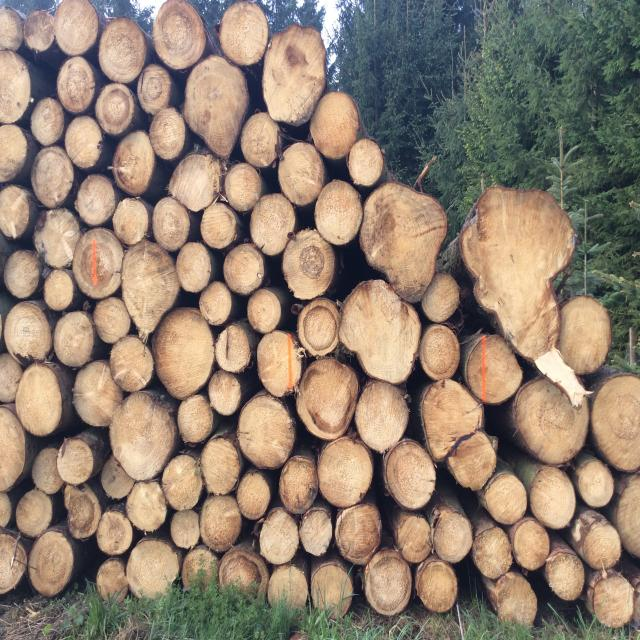wood-log: (461, 188, 576, 364), (358, 181, 448, 292), (338, 281, 420, 384), (515, 379, 589, 465), (185, 56, 246, 160), (110, 391, 178, 480), (264, 25, 325, 123), (120, 242, 179, 339), (151, 310, 214, 400), (419, 380, 483, 461), (295, 356, 357, 438), (588, 374, 638, 472), (234, 394, 294, 468), (462, 333, 523, 403), (555, 297, 609, 376), (354, 378, 408, 451), (319, 440, 375, 510), (281, 230, 335, 301), (72, 229, 124, 300), (382, 441, 434, 511), (16, 362, 64, 435), (153, 2, 203, 72), (311, 91, 362, 158), (72, 363, 123, 428), (528, 464, 578, 528), (99, 19, 149, 83), (315, 181, 364, 246), (362, 550, 411, 614), (258, 330, 304, 398), (128, 539, 180, 599), (219, 1, 267, 65), (276, 145, 324, 208), (1, 304, 51, 364), (28, 530, 72, 598), (482, 571, 536, 626), (171, 156, 222, 214), (114, 130, 158, 196), (250, 193, 297, 254), (449, 434, 498, 492), (337, 505, 382, 568), (34, 208, 81, 267), (29, 150, 73, 212), (199, 436, 242, 495), (110, 335, 155, 391), (433, 503, 475, 563), (161, 455, 205, 511), (198, 495, 241, 552), (591, 573, 634, 629), (483, 471, 528, 524), (0, 405, 27, 492), (55, 0, 99, 53), (300, 301, 340, 359), (53, 312, 94, 368), (419, 324, 460, 380), (279, 456, 319, 513), (125, 479, 168, 532), (238, 114, 280, 168), (259, 509, 300, 564), (74, 176, 119, 226), (218, 549, 263, 599), (416, 558, 457, 612), (224, 244, 266, 296), (580, 517, 622, 569), (58, 55, 96, 112), (0, 49, 30, 121), (472, 525, 512, 579), (64, 116, 104, 169), (153, 196, 192, 250), (149, 108, 188, 161), (419, 272, 461, 321), (512, 516, 550, 570), (545, 550, 586, 600), (616, 476, 640, 559), (98, 82, 137, 133), (314, 561, 354, 609), (573, 460, 613, 508), (3, 252, 42, 300), (93, 296, 132, 344), (183, 544, 221, 593), (269, 562, 309, 608), (177, 242, 213, 293), (113, 199, 152, 246), (397, 515, 433, 565), (348, 140, 386, 187), (97, 509, 135, 556), (16, 489, 54, 536), (177, 396, 214, 444), (226, 163, 262, 211), (57, 438, 94, 484), (0, 532, 27, 595), (138, 64, 172, 114), (201, 202, 237, 249), (30, 98, 65, 146), (300, 508, 334, 556), (0, 124, 28, 182), (0, 186, 30, 239), (237, 472, 270, 520), (21, 6, 55, 52), (247, 290, 282, 334), (207, 369, 241, 413), (101, 458, 135, 501), (32, 445, 62, 493), (200, 281, 233, 324), (96, 558, 127, 602), (44, 268, 76, 310), (170, 510, 201, 549), (0, 352, 23, 401), (0, 9, 22, 50), (0, 492, 11, 528)
